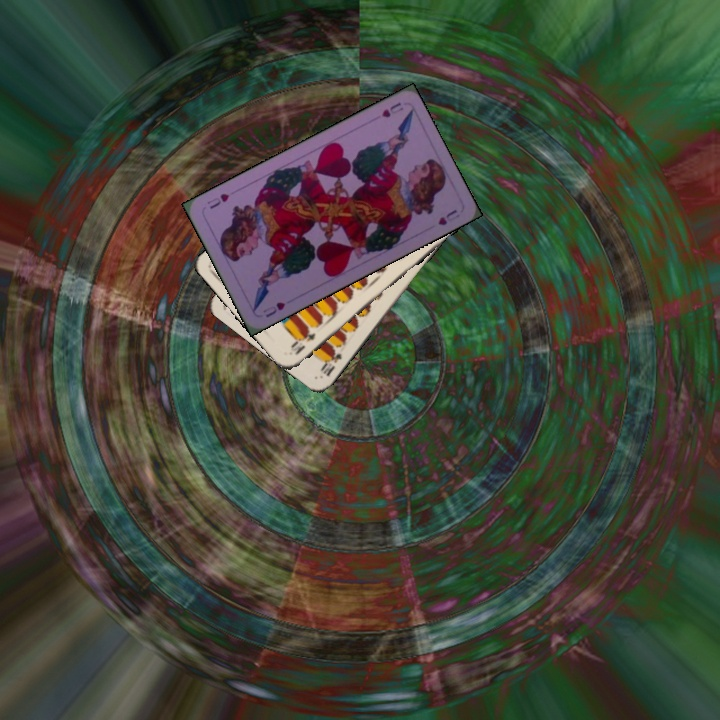E10: (286, 326, 318, 358), (316, 345, 345, 379)
HU: (259, 298, 288, 320), (377, 98, 406, 120)
